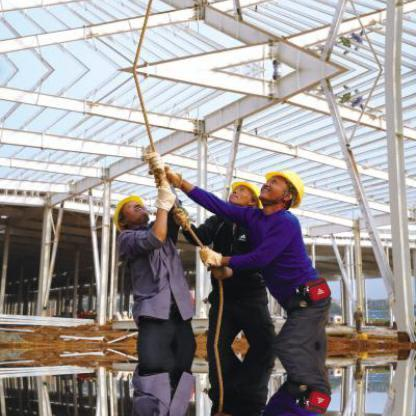helmet: (264, 167, 307, 206), (109, 189, 144, 228), (229, 168, 260, 201)
